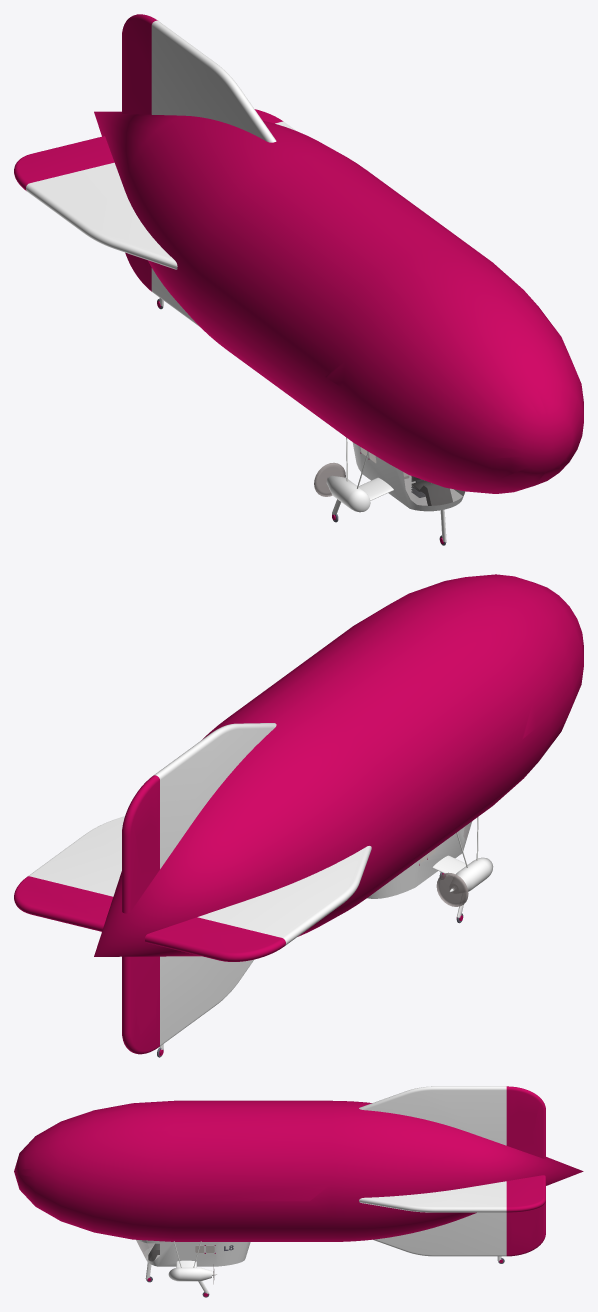
3 views of the same model, one above another, from view 1: azimuth 30°, elevation 25°; view 2: azimuth 150°, elevation 25°; view 3: azimuth 270°, elevation 25° (orthographic). The views are drawn at different scales.
Visible parts, largest first — view 1: 1112; view 2: 1112; view 3: 1112.
Boxes of the visible parts, x1,y1,x2,y2 form: 1112: [14, 14, 583, 545]; 1112: [14, 574, 583, 1057]; 1112: [14, 1086, 583, 1297].
Size of the model in its own units: 291 by 337 by 889.
